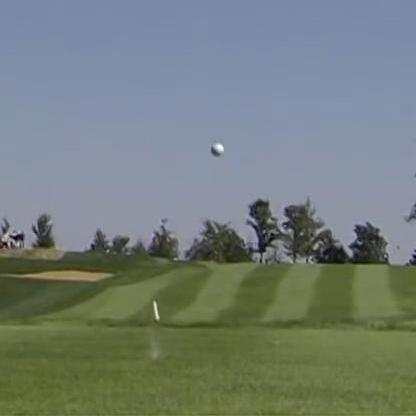golfball: (207, 140, 222, 157)
